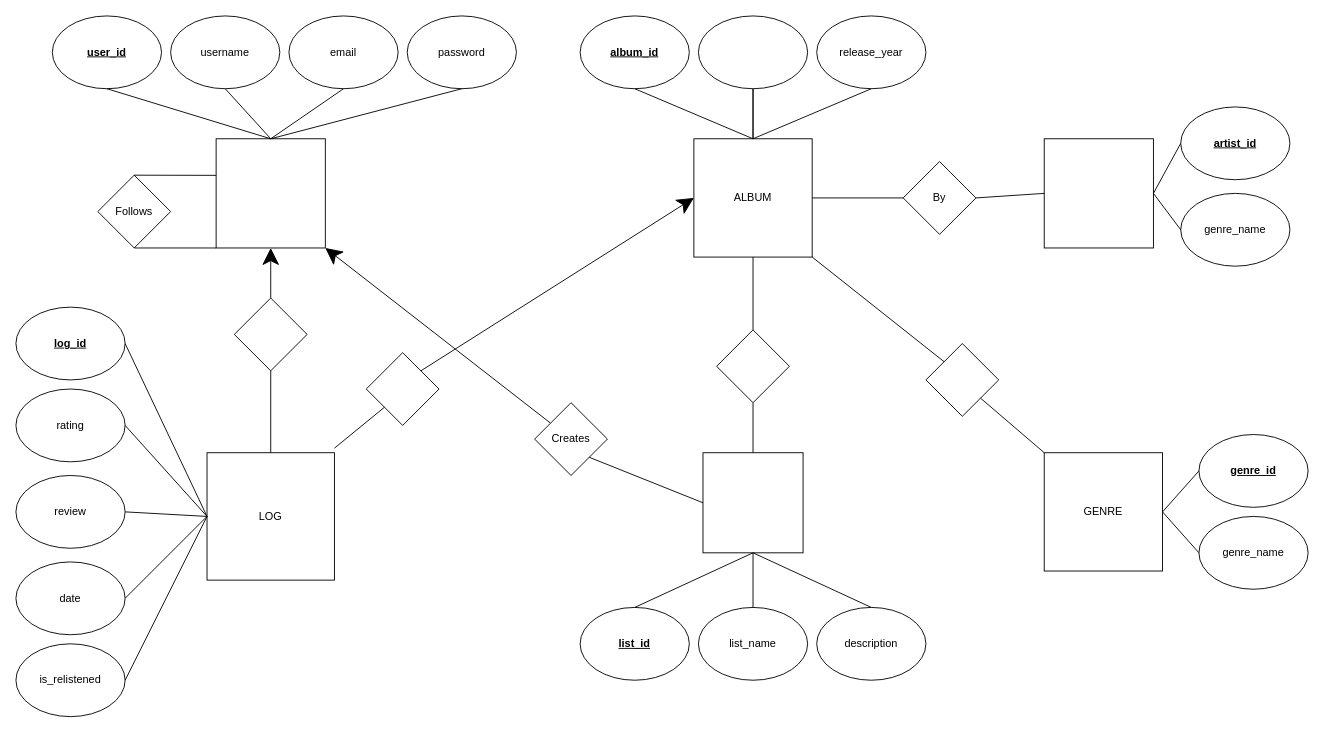
Some shapes in this 1324 by 733 pixel diagram are drawn without their labels. The box of each missing label's shape, as (x1, y1, x2, y2) in pixels:
Added To: (716, 329, 789, 403)
album_title: (698, 15, 808, 89)
ARTIST: (1043, 138, 1153, 248)
Belongs To: (925, 343, 999, 416)
For: (365, 352, 439, 425)
LIST: (702, 452, 803, 553)
Logs: (233, 297, 307, 371)
USER: (215, 138, 325, 248)
